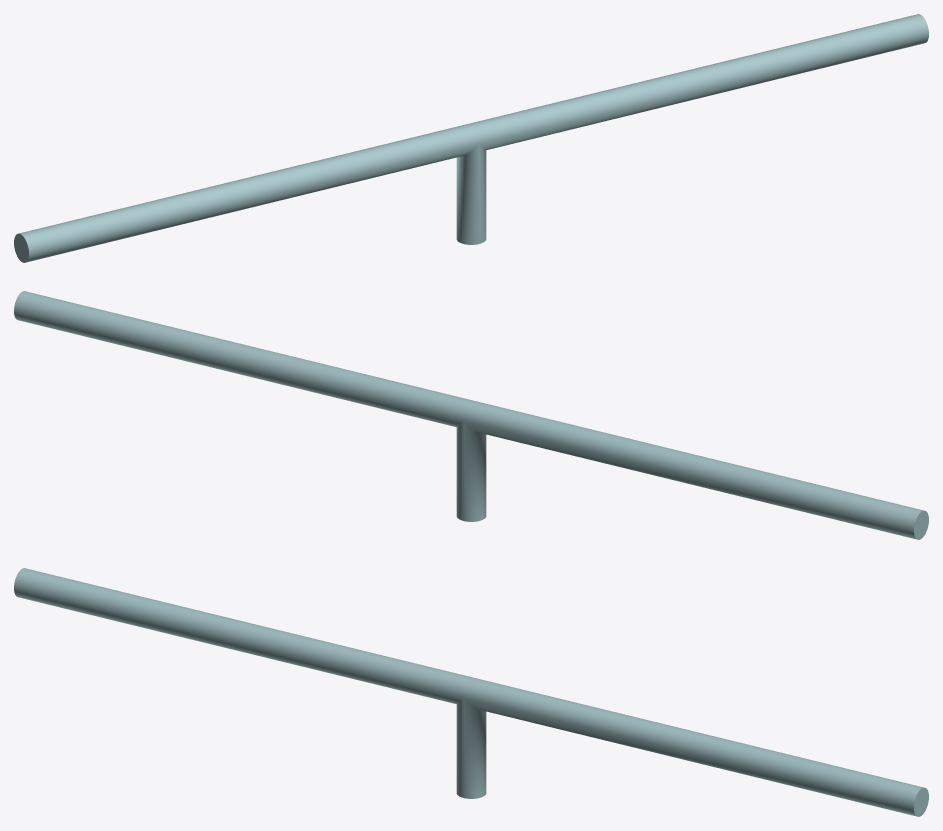
Rendered from StraightPipe.fbx.
The picture shows the model from 3 angles, top to bottom: view 1: azimuth 30°, elevation 25°; view 2: azimuth 150°, elevation 25°; view 3: azimuth 330°, elevation 25°; orthographic projection.
Parts seen in each view (by area): view 1: StraightPipe; view 2: StraightPipe; view 3: StraightPipe.
Boxes of the visible parts, x1=… form: StraightPipe: x1=14, y1=14, x2=928, y2=262; StraightPipe: x1=14, y1=291, x2=928, y2=539; StraightPipe: x1=14, y1=568, x2=928, y2=816.
Size of what is drawn, in the model's own units: 32.08 by 0.9277 by 3.88.
